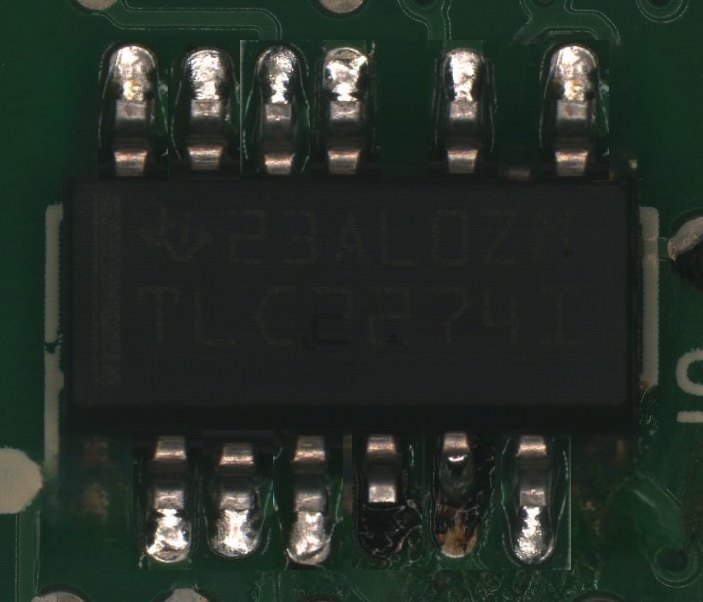NG: (352, 430, 422, 570), (425, 430, 495, 570)
OK: (98, 40, 168, 180), (501, 430, 571, 570), (273, 430, 343, 570), (428, 40, 498, 180), (539, 40, 609, 180), (240, 40, 310, 180), (133, 430, 203, 570), (311, 40, 381, 180), (170, 40, 240, 180), (203, 430, 273, 570)
